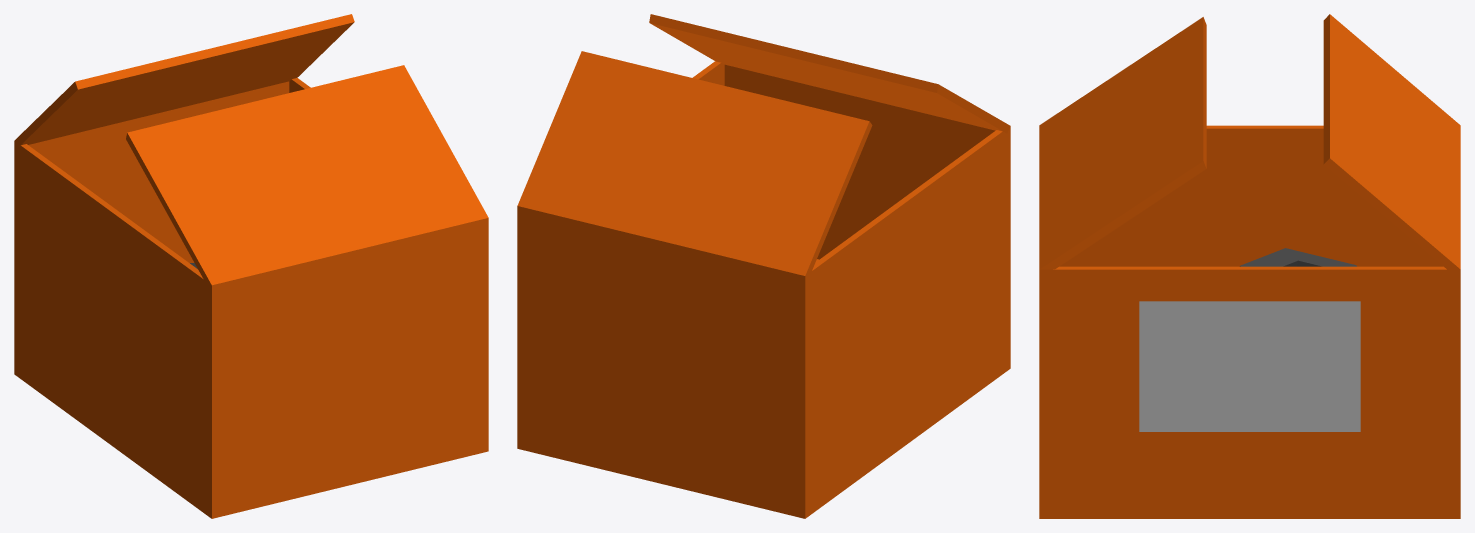
The model's file is caja_mediana.fbx.
3 renders of one model, left to right at view 1: azimuth 30°, elevation 25°; view 2: azimuth 150°, elevation 25°; view 3: azimuth 270°, elevation 25°, orthographic. The views are drawn at different scales.
Visible parts, largest first — view 1: caja_b; view 2: caja_b; view 3: caja_b.
Boxes of the visible parts, box(x1,y1,x2,y2) form: caja_b: box(14, 14, 488, 518); caja_b: box(517, 14, 1010, 518); caja_b: box(1039, 14, 1460, 518).
Size of the model in its own units: 0.3859 by 0.438 by 0.4642.
